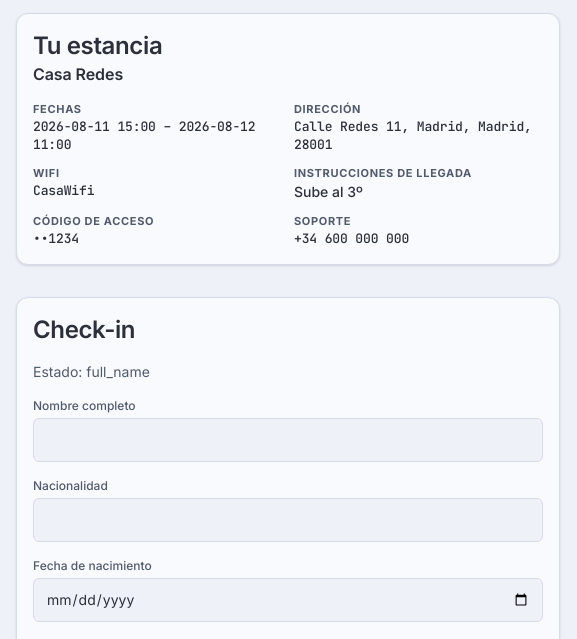
safe error mapping for 413/5xx (R5.3, tasks 4.3, 5.2) › maps a 413 on check-in to the too-large copy without leaking the raw body
Type "Ana" into the field labelled "Nombre completo" at (288, 440), box [33,418,543,462]
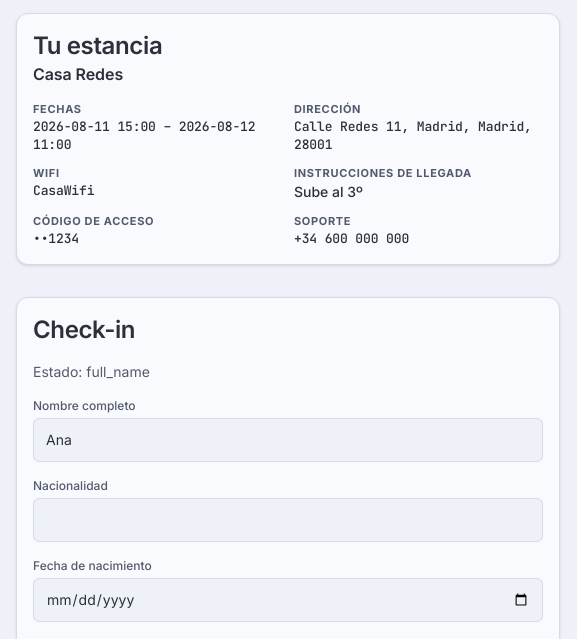
Type "ES" into the field labelled "Nacionalidad" at (288, 520), box [33,498,543,542]
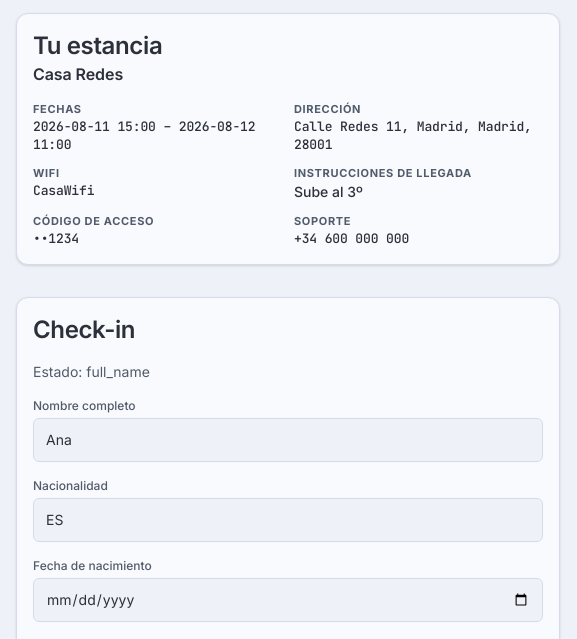
Type "1990-01-01" into the date field labelled "Fecha de nacimiento" at (288, 600), box [33,578,543,622]
(page scrolled)
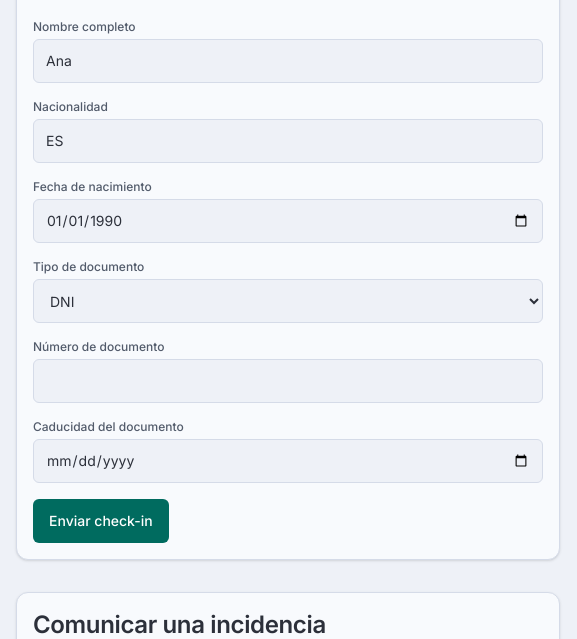
Type "DOC-VALUE" into the field labelled "Número de documento" at (288, 381), box [33,359,543,403]
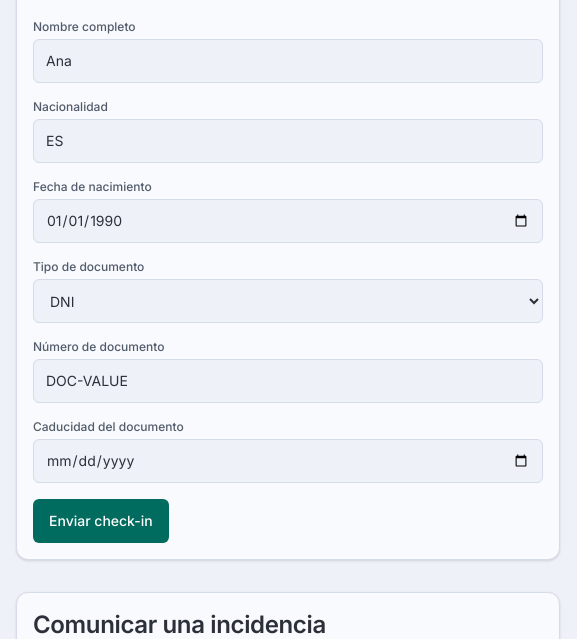
Type "2030-01-01" into the date field labelled "Caducidad del documento" at (288, 461), box [33,439,543,483]
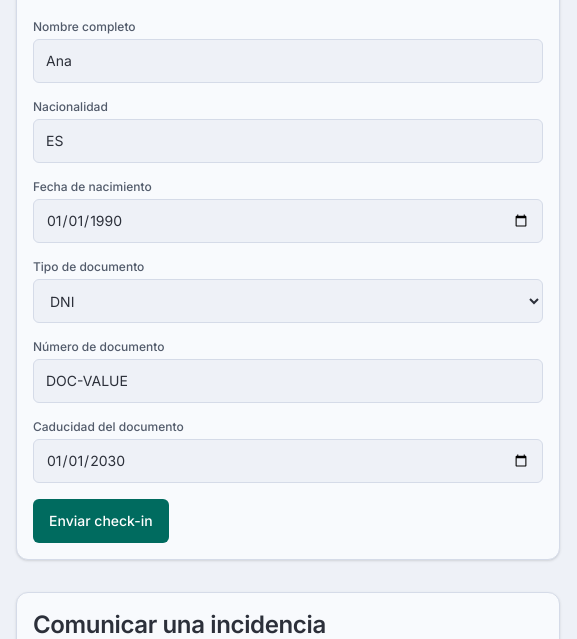
Click the button "Enviar check-in" at (101, 521), box [33,499,169,543]
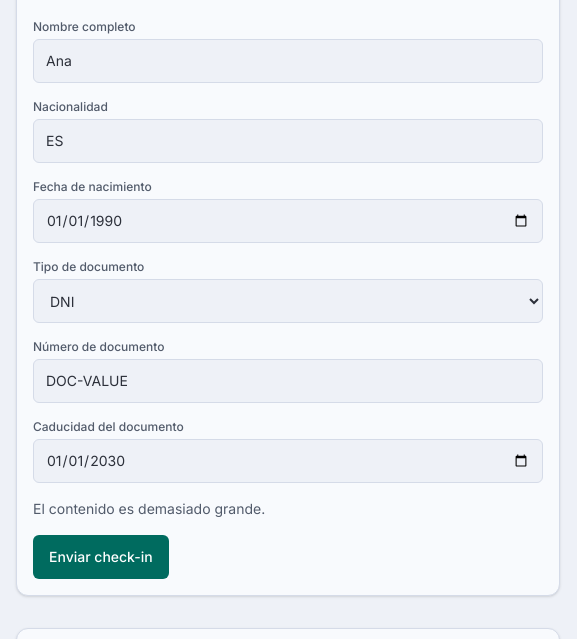
expect the text "El contenido es demasiado grande." is shown: met, box [33,500,265,517]
